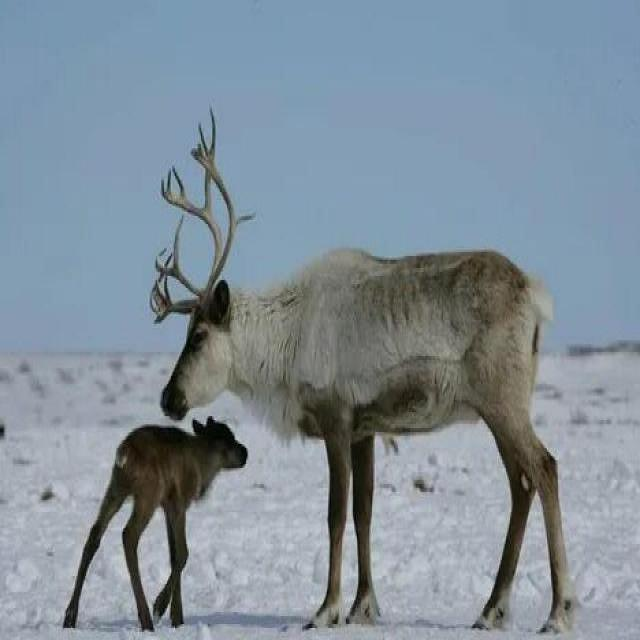deer: (152, 163, 602, 542), (122, 382, 302, 597)
